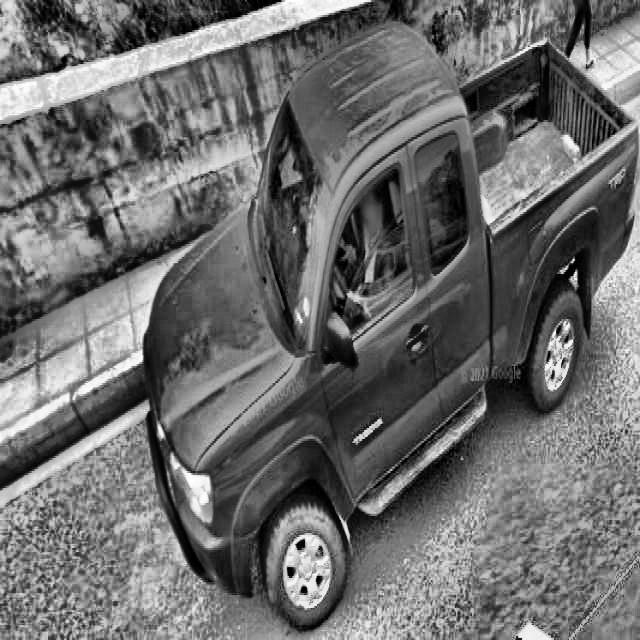carro: (129, 26, 640, 639)
